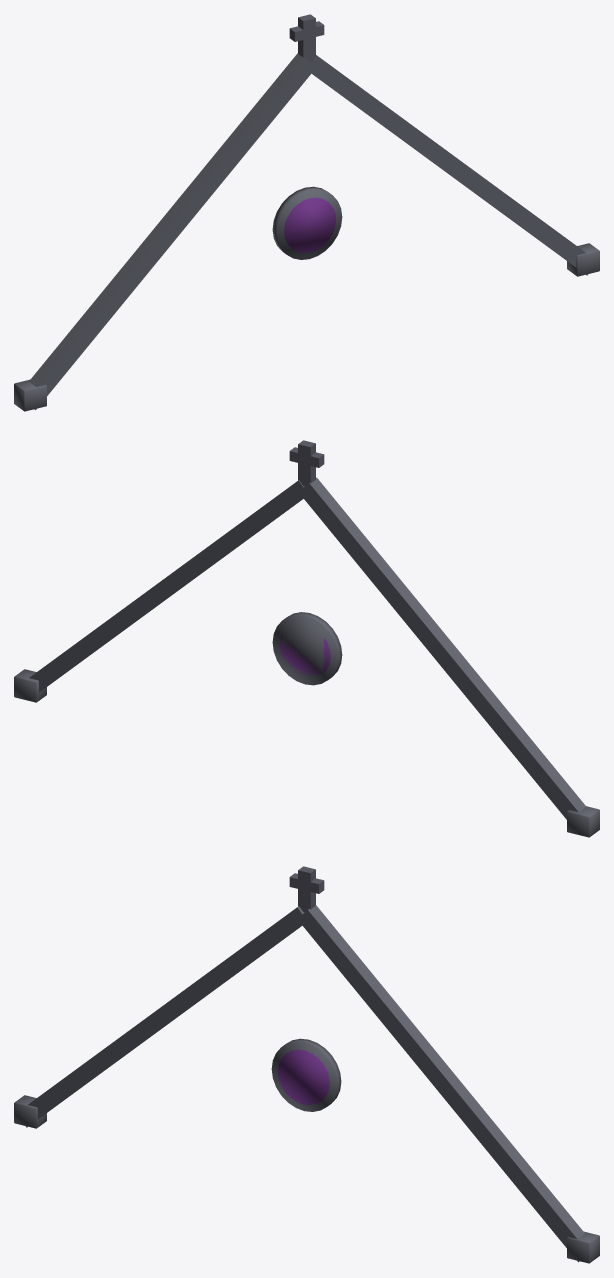
The model's file is kit_church_gable_w7.glb.
The picture shows the model from 3 angles, top to bottom: view 1: azimuth 30°, elevation 25°; view 2: azimuth 150°, elevation 25°; view 3: azimuth 330°, elevation 25°; orthographic projection.
Parts seen in each view (by area): view 1: kit_church_gable_w7; view 2: kit_church_gable_w7; view 3: kit_church_gable_w7.
Boxes of the visible parts, x1,y1,x2,y2 form: kit_church_gable_w7: (14, 14, 599, 411); kit_church_gable_w7: (14, 440, 599, 837); kit_church_gable_w7: (14, 866, 599, 1263).
Bounding box in the file's own units: 7.42 × 3.96 × 0.24.
